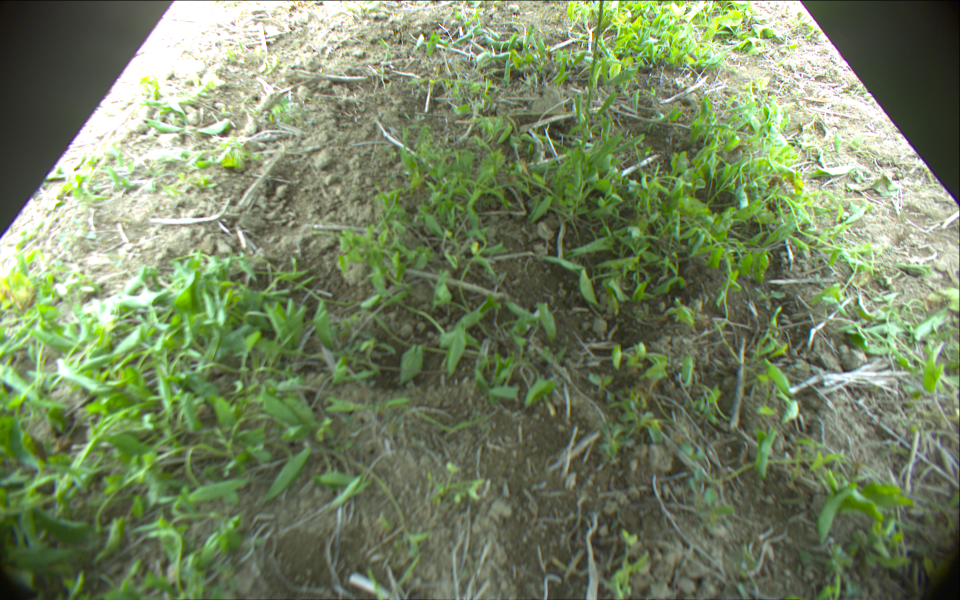aspa: (579, 1, 606, 150)
